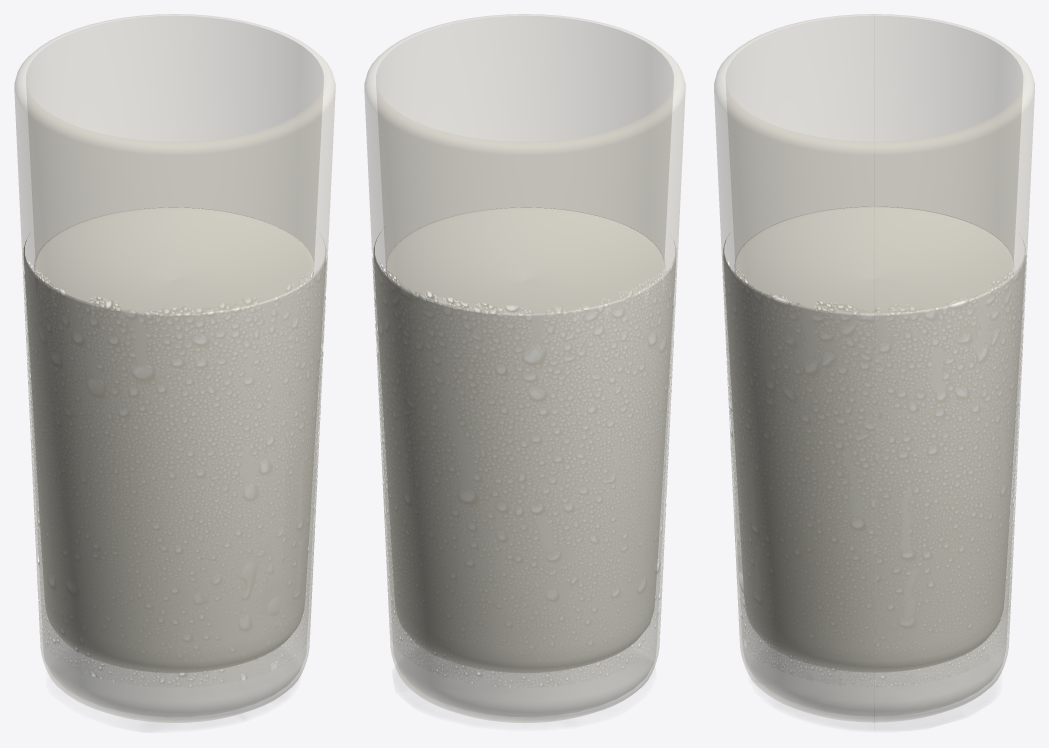
Rendered from milk-glass-Glas_08.glb.
3 renders of one model, left to right at view 1: azimuth 30°, elevation 25°; view 2: azimuth 150°, elevation 25°; view 3: azimuth 270°, elevation 25°, orthographic.
Parts seen in each view (by area): view 1: Cylinder (×2), fuss, Cylinder.1, Milch; view 2: Cylinder (×2), fuss, Cylinder.1, Milch; view 3: Cylinder (×2), fuss, Cylinder.1, Milch.
Part boxes in pixels (<box>): Cylinder (×2): <box>14,14,335,722</box>; fuss: <box>24,258,326,716</box>; Cylinder.1: <box>26,16,323,272</box>; Milch: <box>34,207,313,313</box>; Cylinder (×2): <box>364,14,685,722</box>; fuss: <box>373,259,675,716</box>; Cylinder.1: <box>376,16,673,261</box>; Milch: <box>386,207,665,313</box>; Cylinder (×2): <box>714,14,1034,722</box>; fuss: <box>722,255,1026,716</box>; Cylinder.1: <box>726,15,1022,261</box>; Milch: <box>734,207,1014,313</box>.
Bounding box in the file's own units: 0.0556 × 0.1142 × 0.0555.
5 materials, 3 textured.
